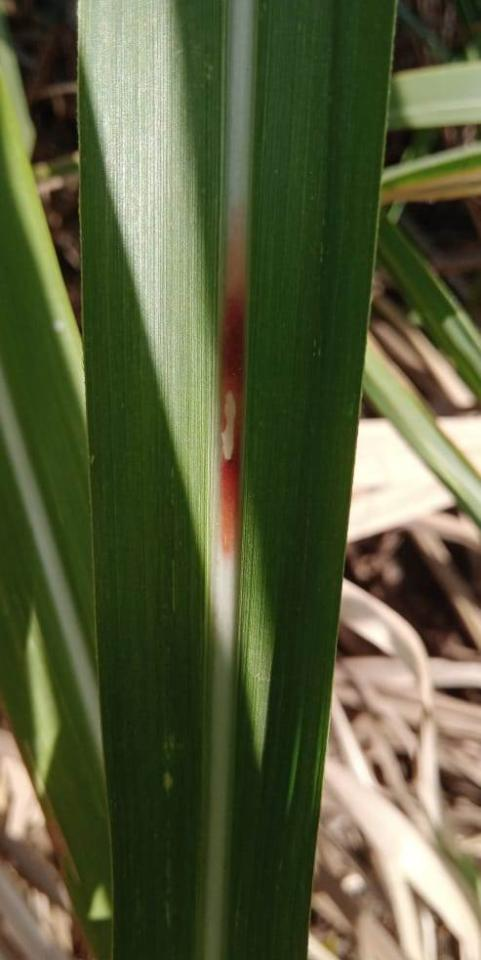RedRot: (219, 201, 246, 563)
